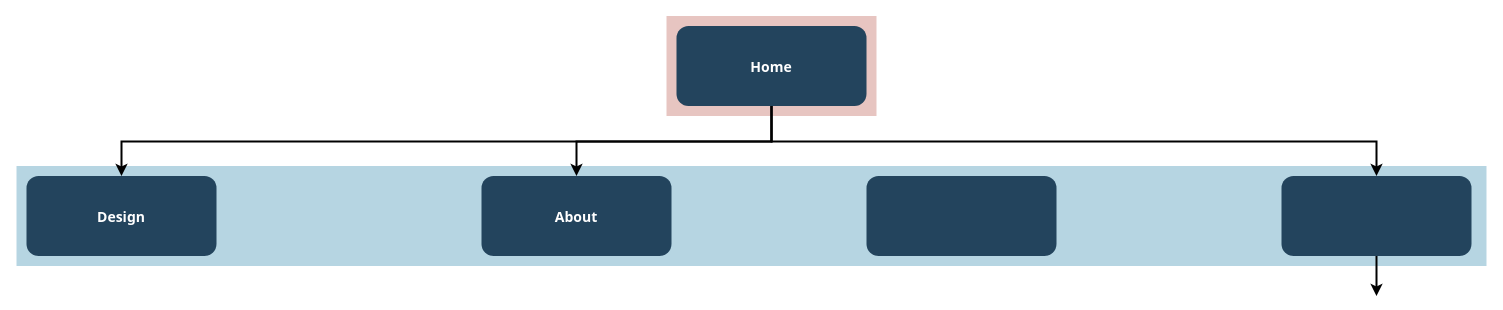
The diagram is 1503 pixels wide and 310 high, and some of its shapes have lost their labels. Here are the shapes that lost their labels. From the top down, the centre of each, then its label:
At (961,216): "Contract".
At (1376,216): "Information".
